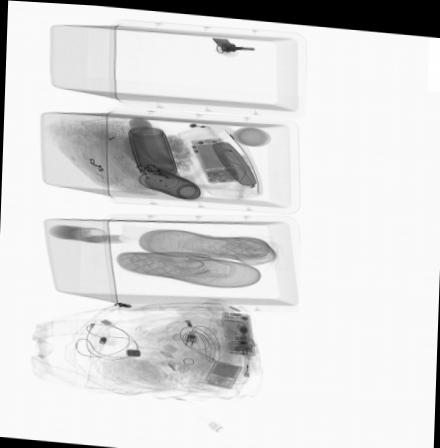Lighter: (242, 351, 248, 374)
